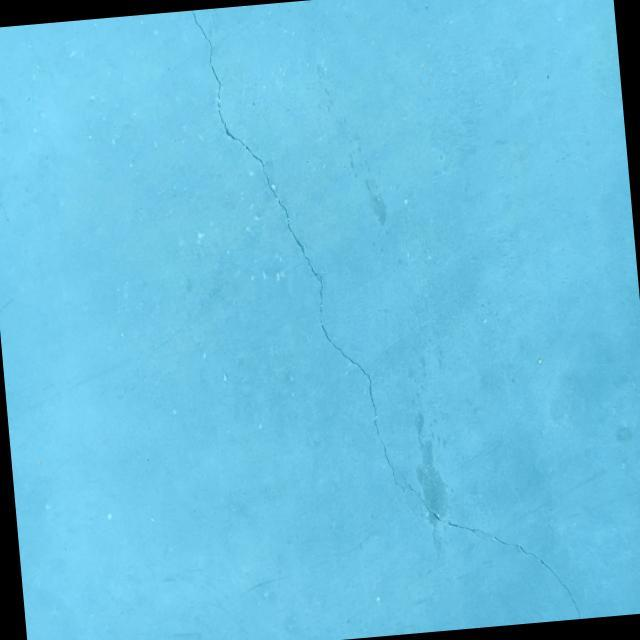crack: (190, 0, 404, 507), (396, 451, 582, 633)
